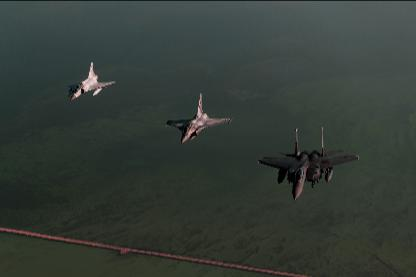F117: (258, 126, 360, 198)
Mirage2000: (68, 61, 116, 99)
RQ4: (165, 92, 233, 142)
